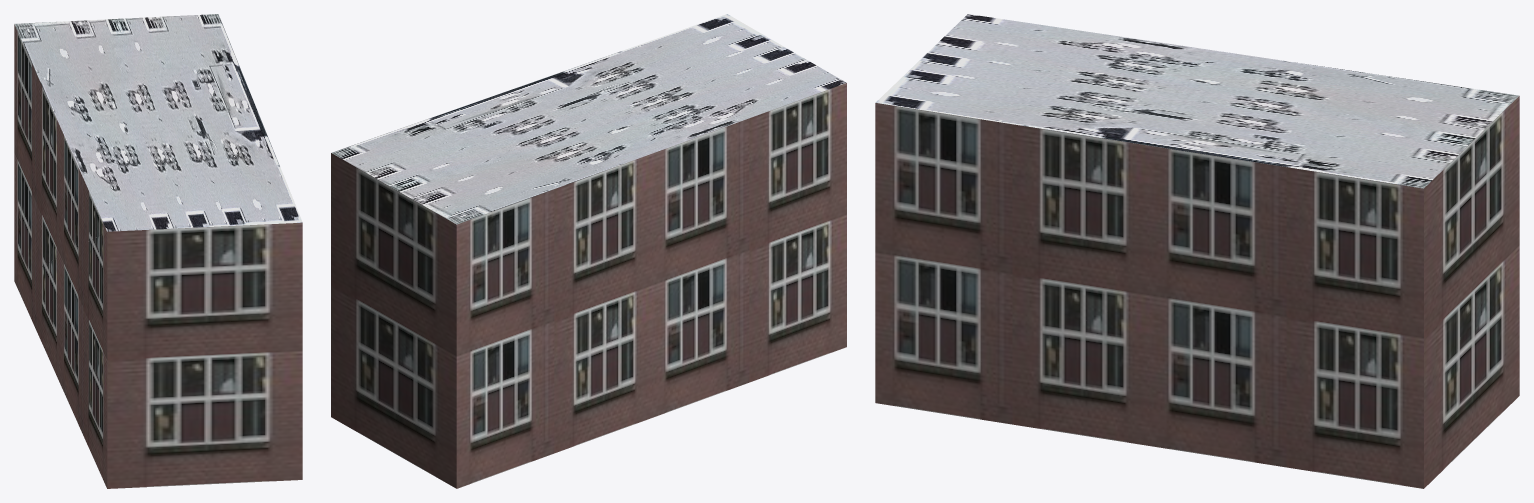
File: ResTex__2362.fbx
3 renders of one model, left to right at view 1: azimuth 30°, elevation 25°; view 2: azimuth 150°, elevation 25°; view 3: azimuth 270°, elevation 25°, orthographic. The views are drawn at different scales.
Visible parts, largest first — view 1: CityEngineMaterial_12_m, CityEngineMaterial_m; view 2: CityEngineMaterial_12_m, CityEngineMaterial_m; view 3: CityEngineMaterial_12_m, CityEngineMaterial_m.
Boxes of the visible parts, <box> form: CityEngineMaterial_12_m: <box>14,24,302,488</box>; CityEngineMaterial_m: <box>14,14,302,231</box>; CityEngineMaterial_12_m: <box>331,83,846,488</box>; CityEngineMaterial_m: <box>331,14,846,224</box>; CityEngineMaterial_12_m: <box>875,96,1519,488</box>; CityEngineMaterial_m: <box>875,14,1518,188</box>.
Size of the model in its own units: 7.49 by 6 by 11.67.
Materials: 2 (2 with a texture image).
